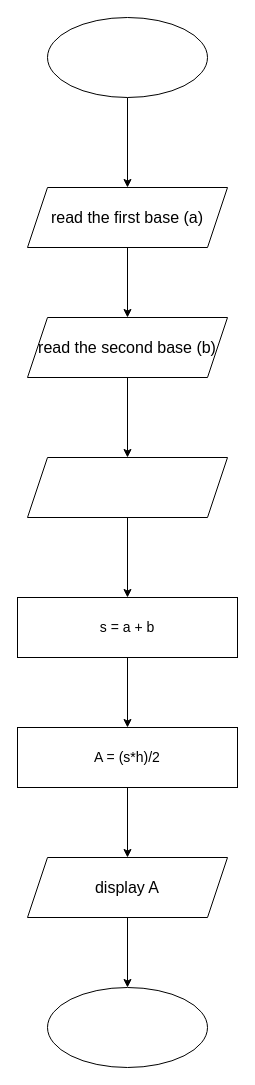
This 255x1085 diagram has some shape labels left out. Each missing label, with the centre of its shape:
End: (127,1027)
read the height (h): (127,487)
Start: (127,57)
